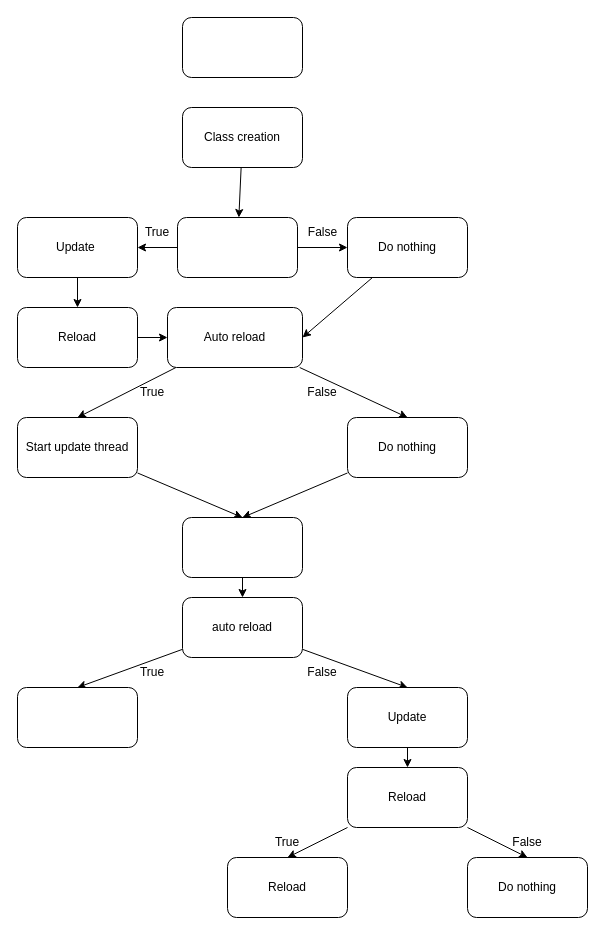
Some shapes in this 605 by 935 pixel diagram are drawn without their labels. Here are the shapes that lost their labels. From the top down, the box of each, then its label:
(182, 16, 302, 78): Functionality
(176, 216, 298, 278): Update at startup
(182, 516, 302, 578): Update is run manually
(16, 686, 138, 748): Rais error
